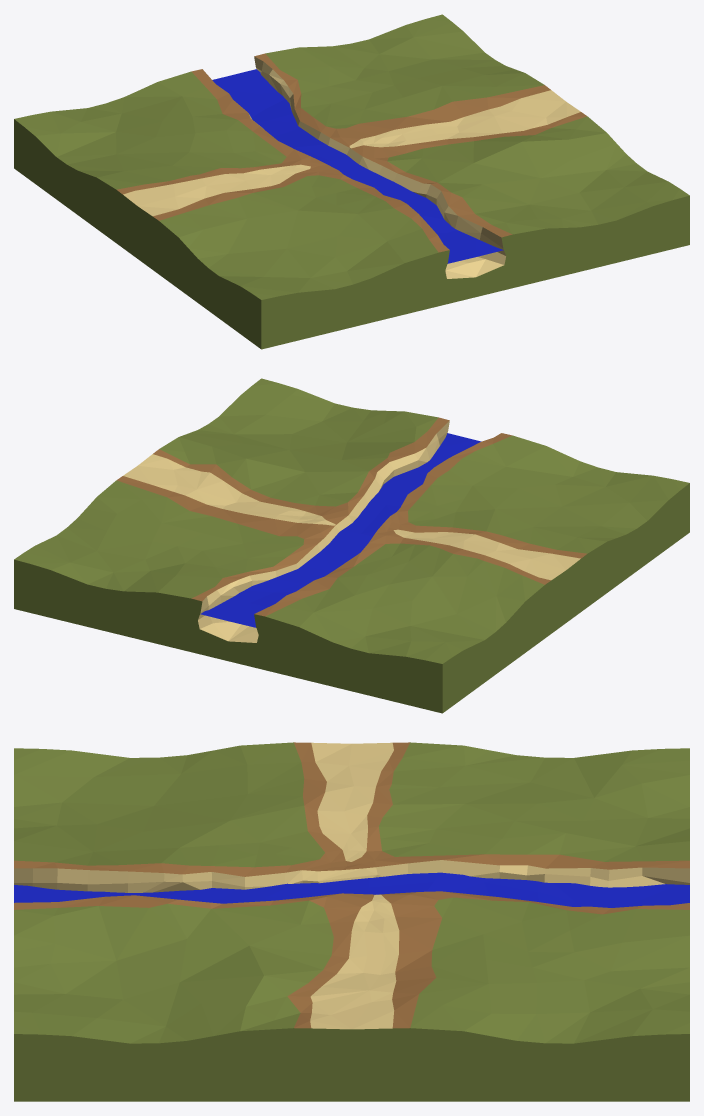
File: Terrian_RiverRoad_Int_Flat-03.fbx
3 renders of one model, top to bottom at view 1: azimuth 30°, elevation 25°; view 2: azimuth 150°, elevation 25°; view 3: azimuth 270°, elevation 25°, orthographic. The views are drawn at different scales.
Visible parts, largest first — view 1: Terrian_RiverRoad_Int_Flat-03; view 2: Terrian_RiverRoad_Int_Flat-03; view 3: Terrian_RiverRoad_Int_Flat-03.
Boxes of the visible parts, x1,y1,x2,y2 form: Terrian_RiverRoad_Int_Flat-03: [14, 14, 689, 349]; Terrian_RiverRoad_Int_Flat-03: [14, 378, 689, 713]; Terrian_RiverRoad_Int_Flat-03: [14, 742, 689, 1101].
Bounding box in the file's own units: 3600 × 453 × 3600.
